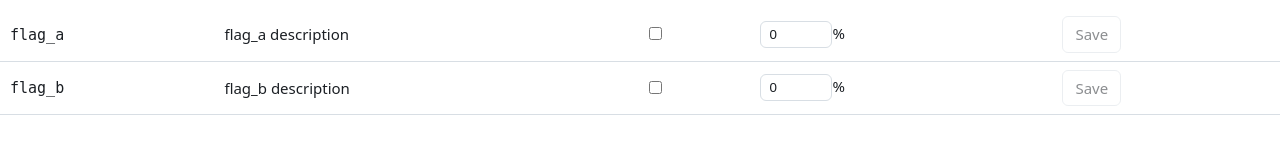
Test case: marks only the edited row dirty (US3-2)
Click the checkbox with test id "flag-enabled-flag_a".
click(655, 34)  # box [649,27,662,40]
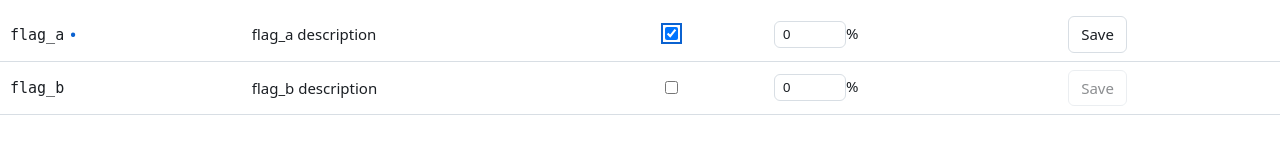
Expected: the button with test id "flag-save-flag_b" is disabled, [1068,70,1127,106]
Expected: the text "•" is shown, [70,24,76,44]
